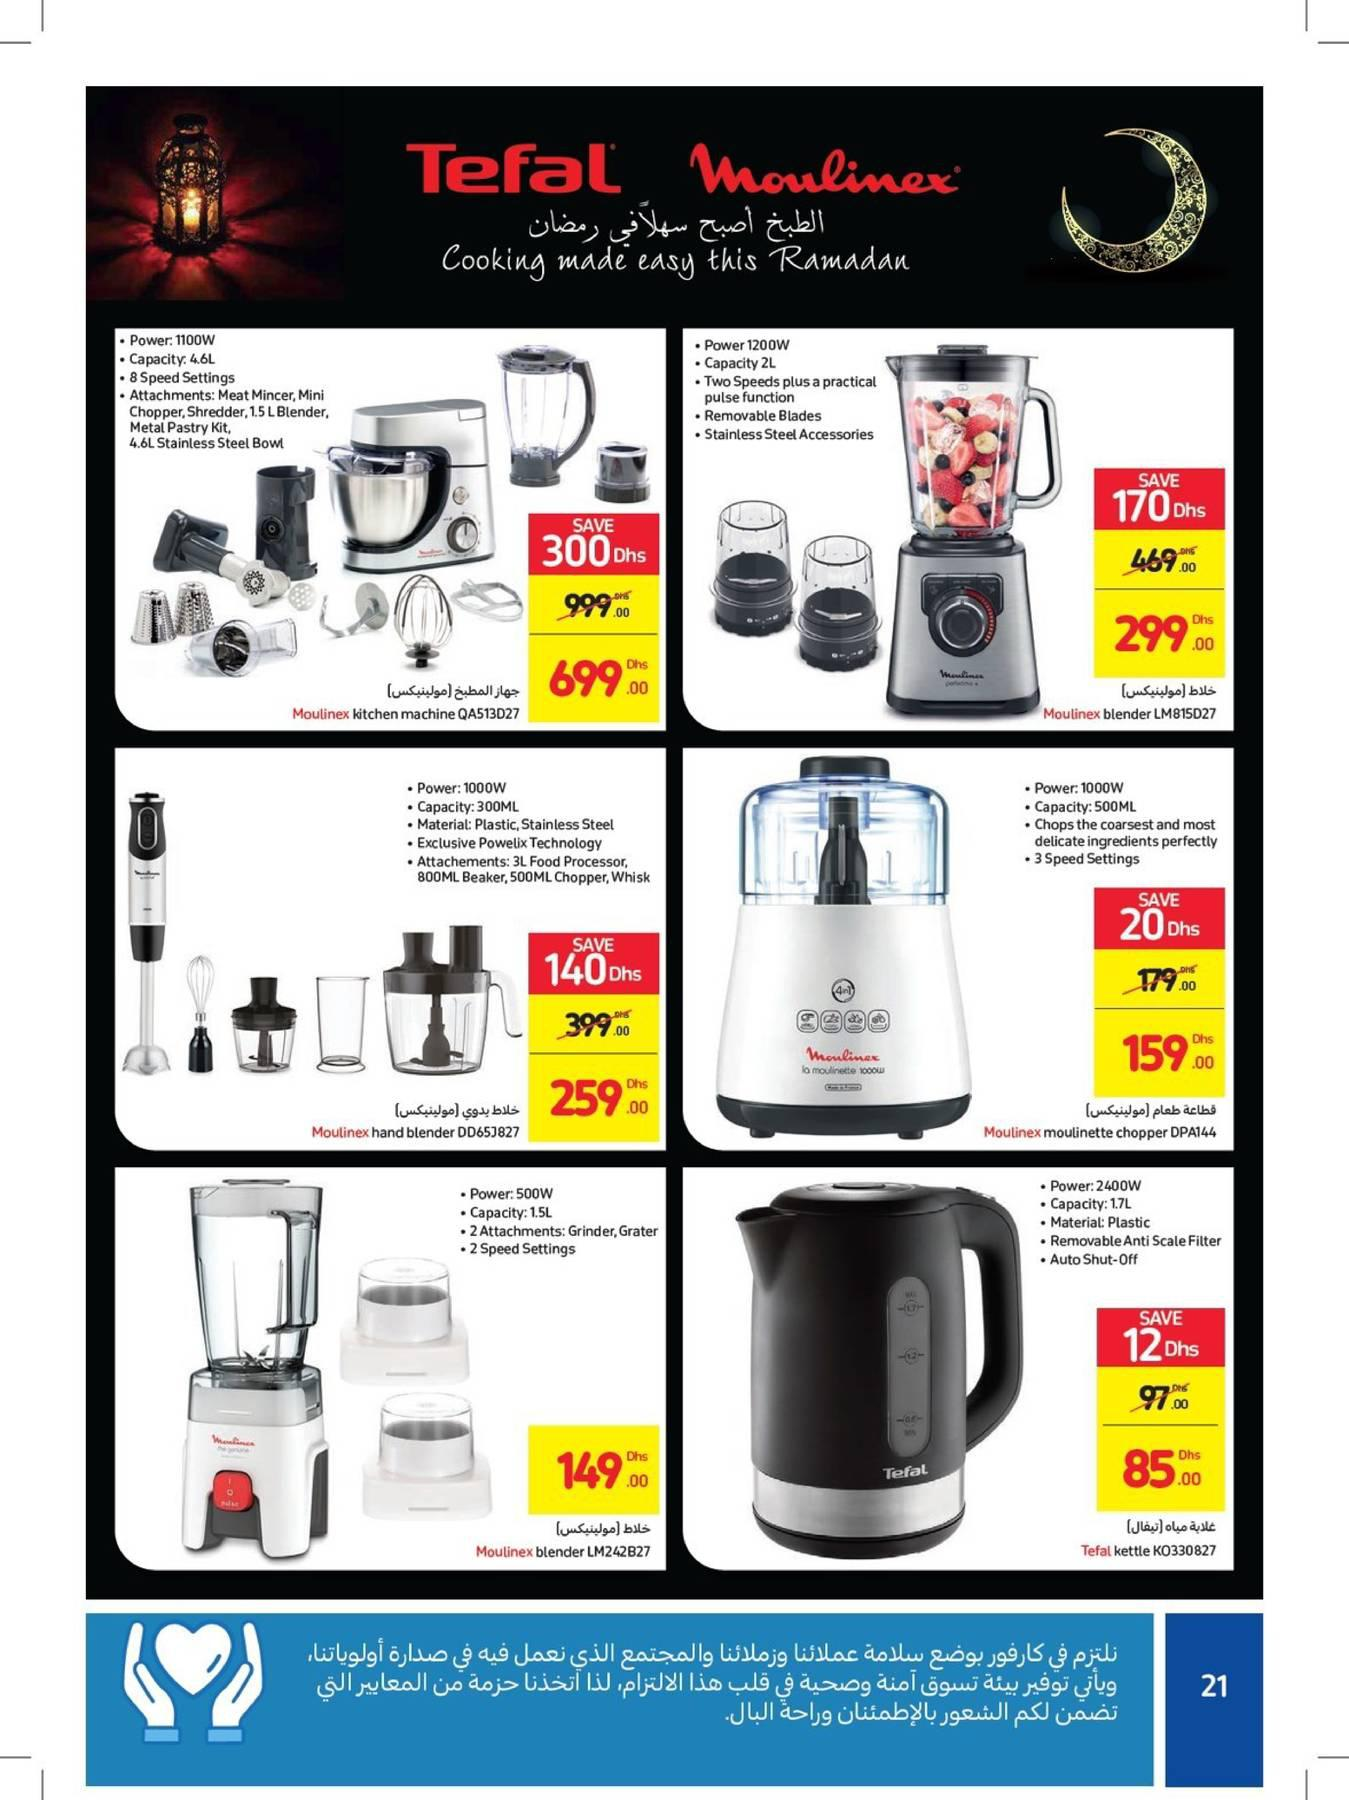text: (282, 675, 527, 729), (978, 1094, 1224, 1145), (281, 1098, 530, 1148), (1032, 1507, 1234, 1568), (446, 1514, 666, 1568), (1032, 677, 1227, 729)
